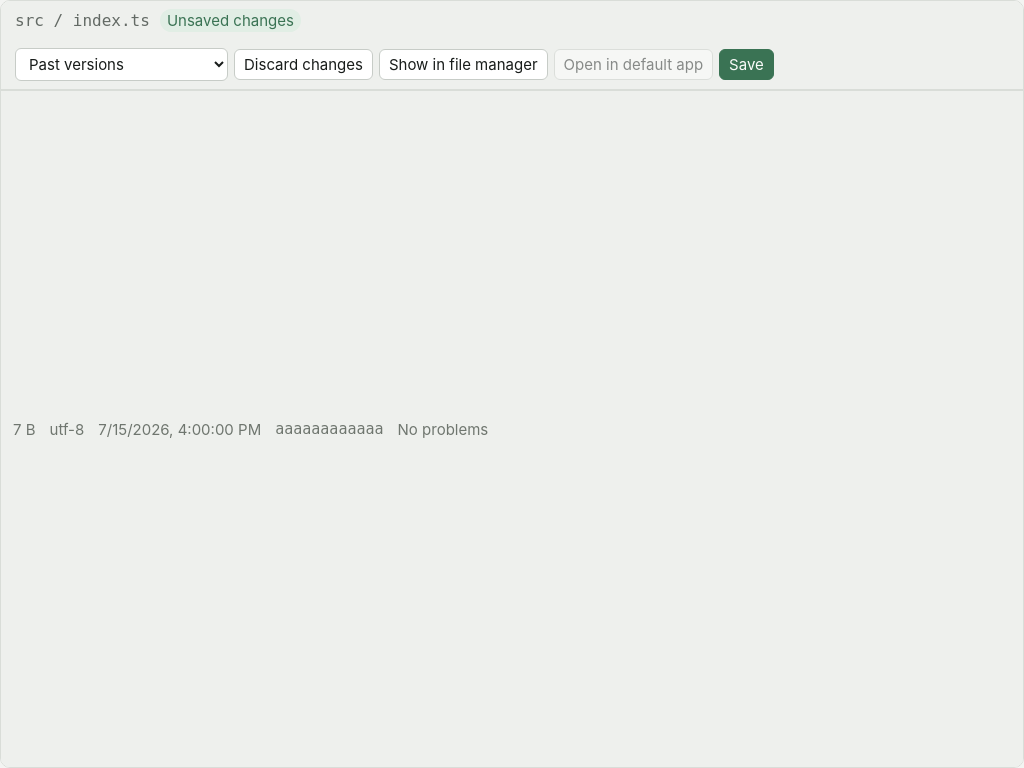
Test: FileEditorPanel › edits with Monaco and performs a hash-bound save through injected operations
The image size is (1024, 768).
Check: the text "saved" is shown, box [167,11,294,30]
Check: the text "Unsaved changes" is shown, box [160,9,301,32]
Click the button "Save". click: click(746, 64)
box: [719,49,774,80]
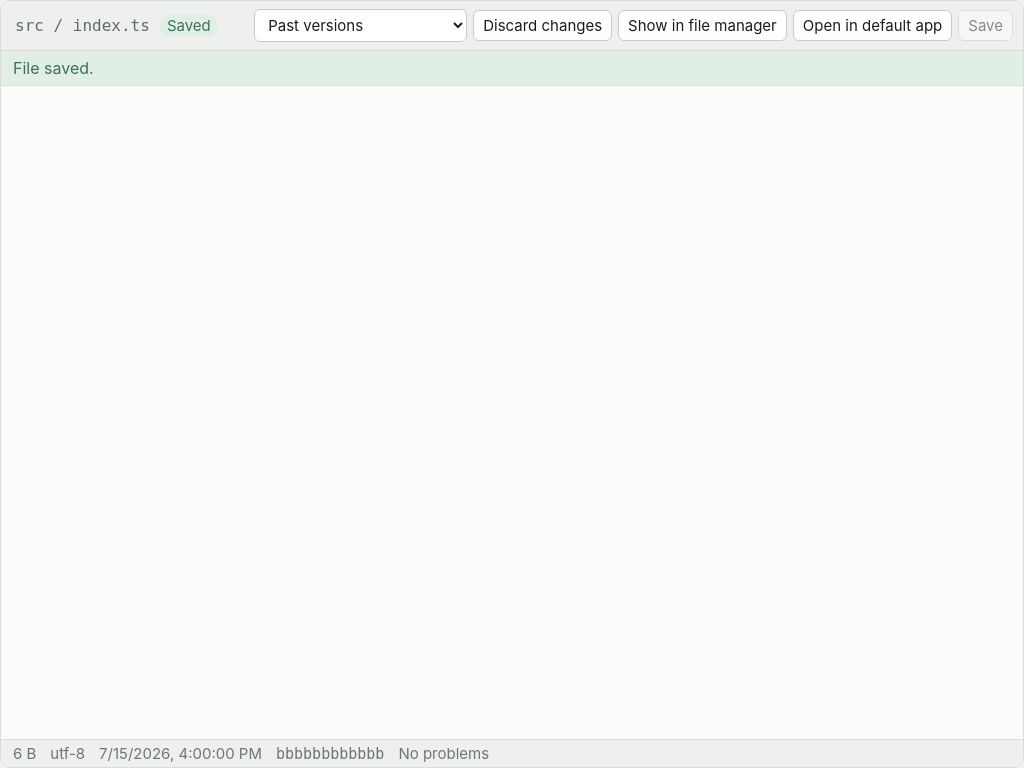
Check: the text "Saved" is shown, box [160,14,218,37]
Check: the text "File saved." is shown, box [1,51,1023,86]
